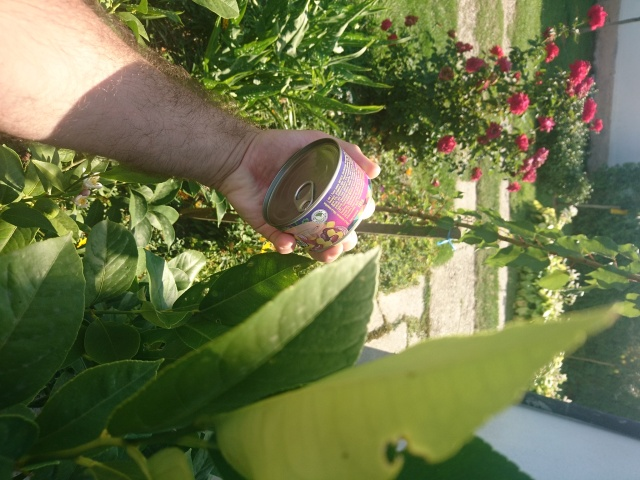Giana Tuna Salad Mexico 185g: (259, 135, 374, 254)
